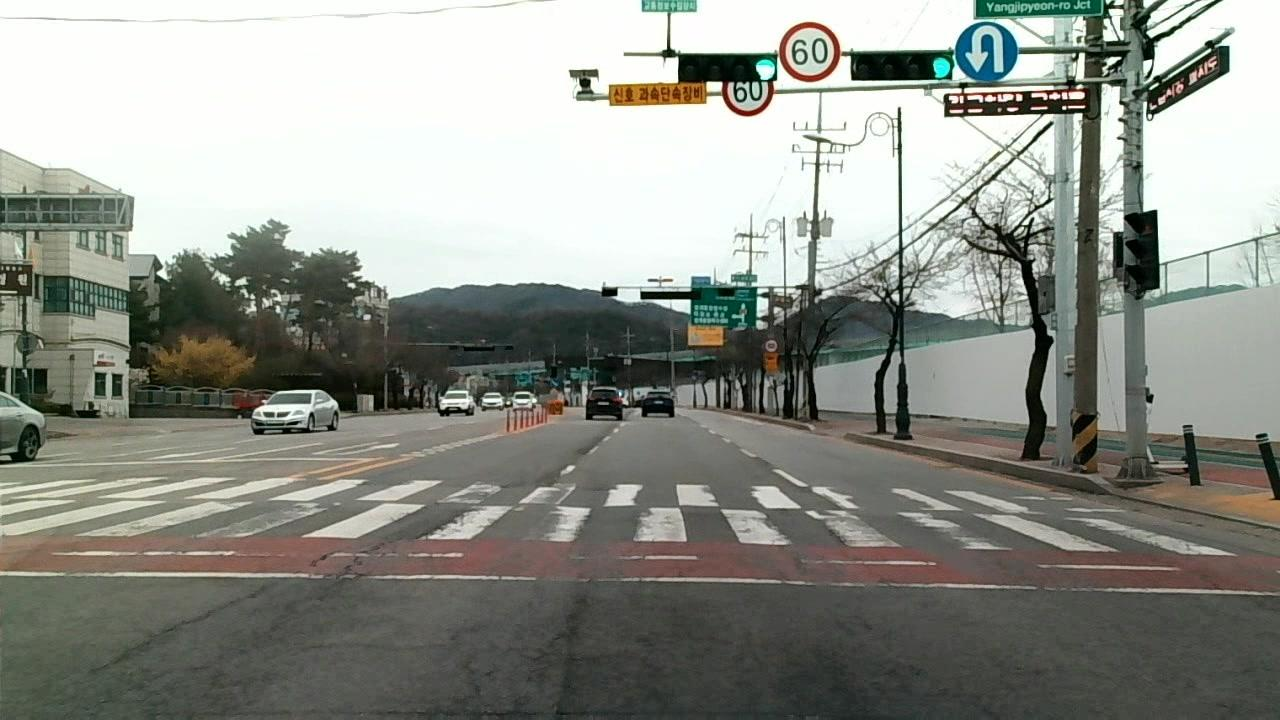vcrack: (124, 579, 268, 656), (314, 529, 392, 595), (823, 518, 854, 549)
